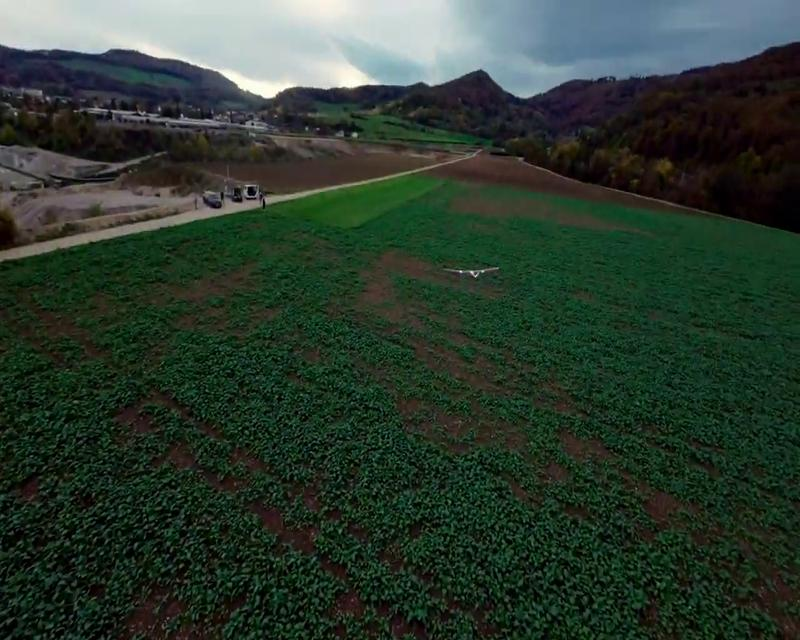UAV: (442, 267, 500, 280)
